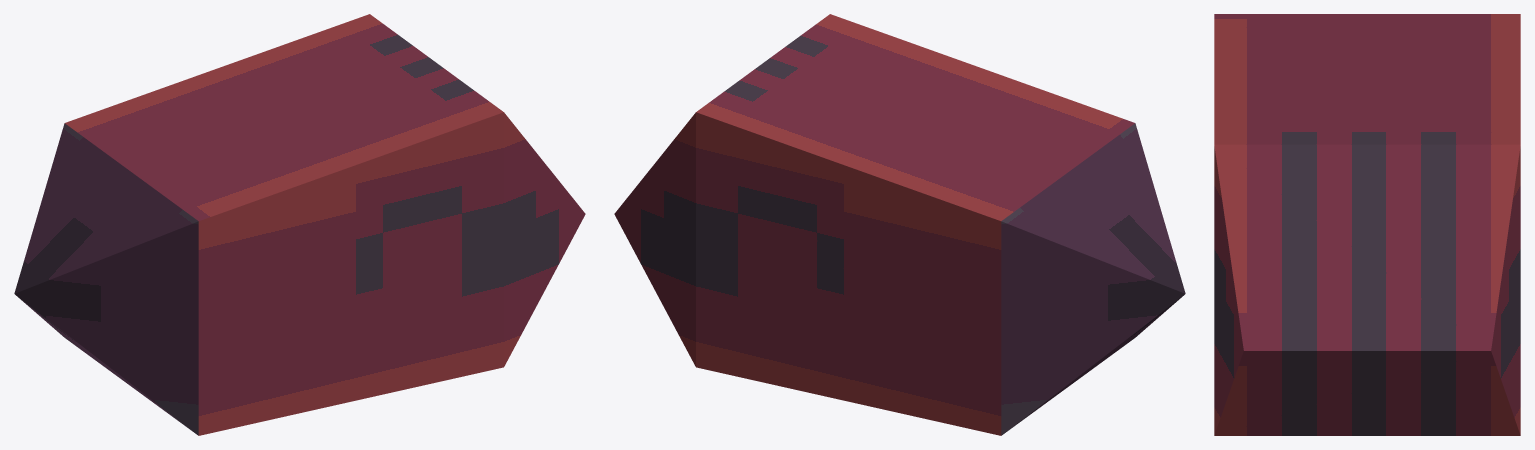
Rendered from kobold_fist.glb.
3 views of the same model, side by side, from view 1: azimuth 30°, elevation 25°; view 2: azimuth 150°, elevation 25°; view 3: azimuth 270°, elevation 25° (orthographic). The views are drawn at different scales.
Visible parts, largest first — view 1: Cube.080; view 2: Cube.080; view 3: Cube.080.
Part boxes in pixels (box(x1,y1,x2,y2)): Cube.080: box(14, 14, 585, 435); Cube.080: box(614, 14, 1185, 435); Cube.080: box(1214, 14, 1520, 435).
Bounding box in the file's own units: 1.1 × 0.5178 × 0.4936.
1 material, 1 textured.
